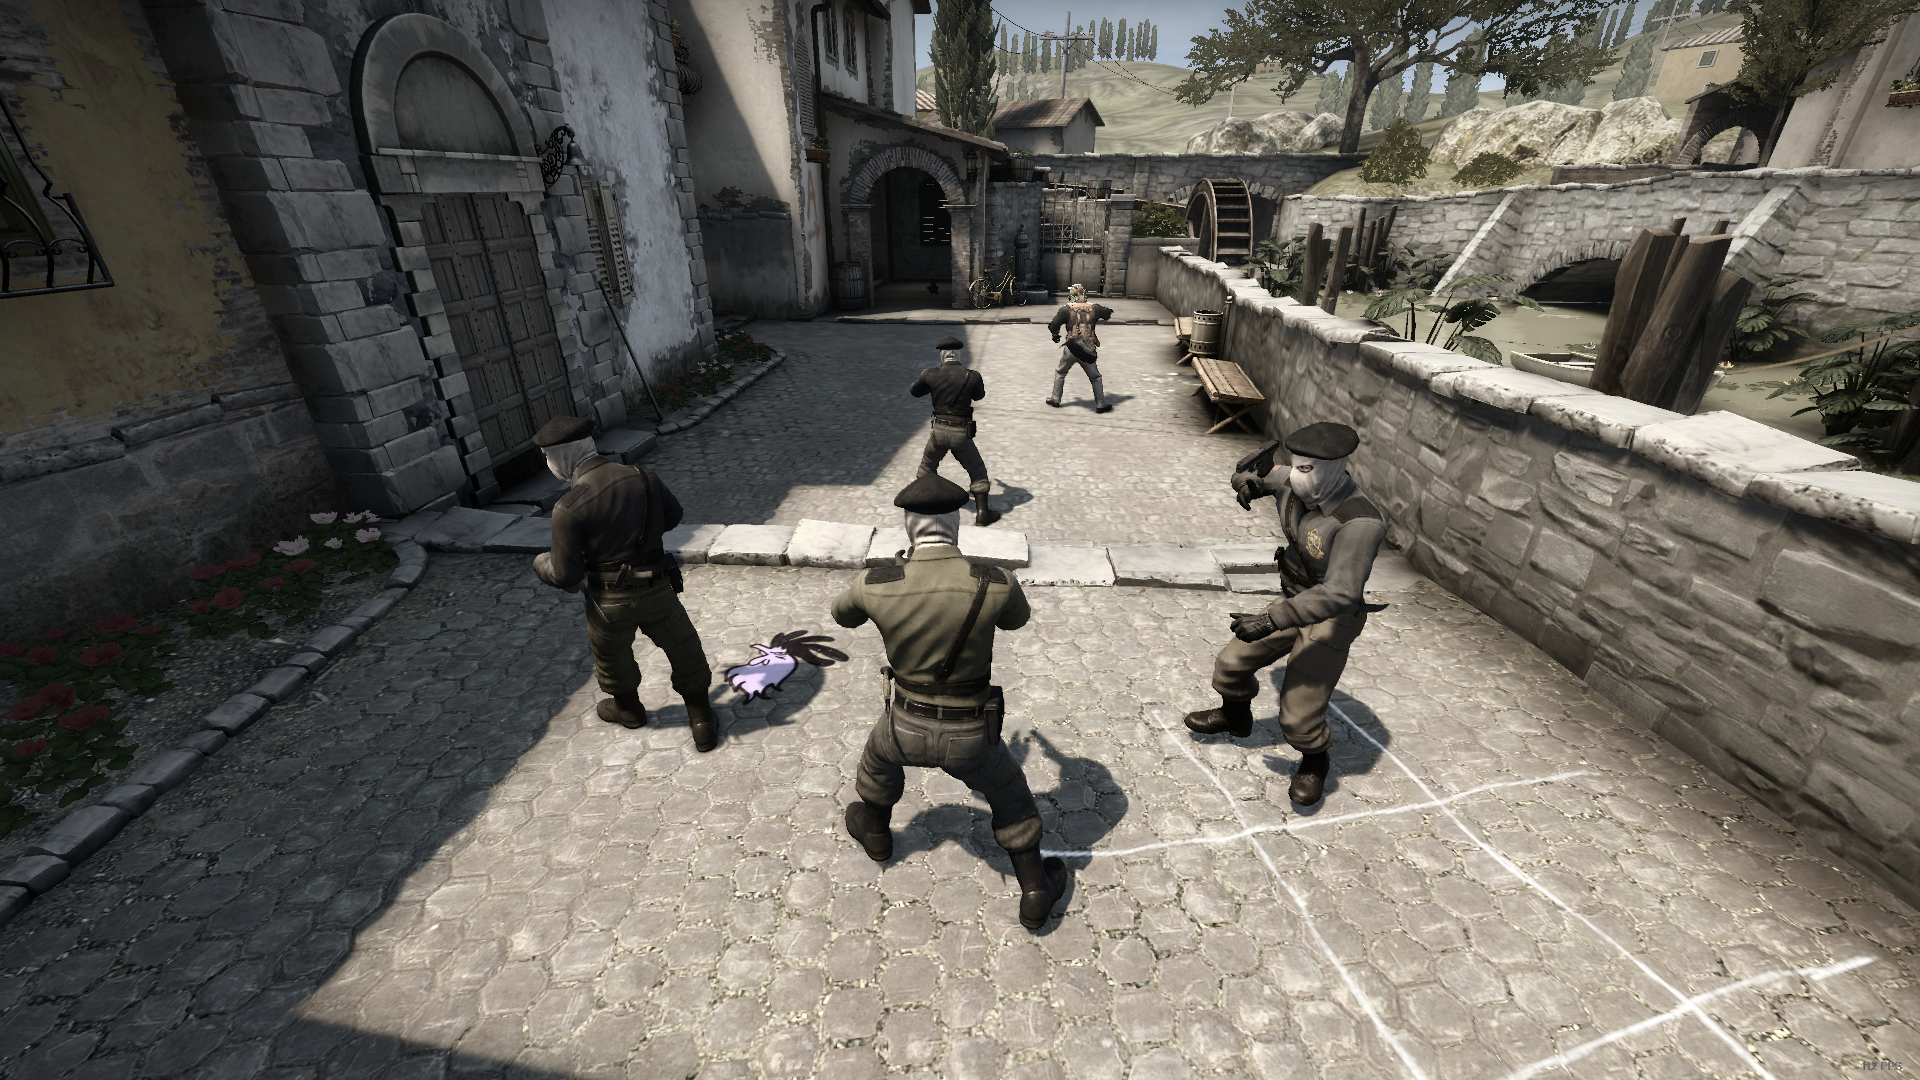t: (829, 483, 1077, 936), (1179, 419, 1386, 812), (524, 414, 733, 756), (905, 340, 1002, 524)
